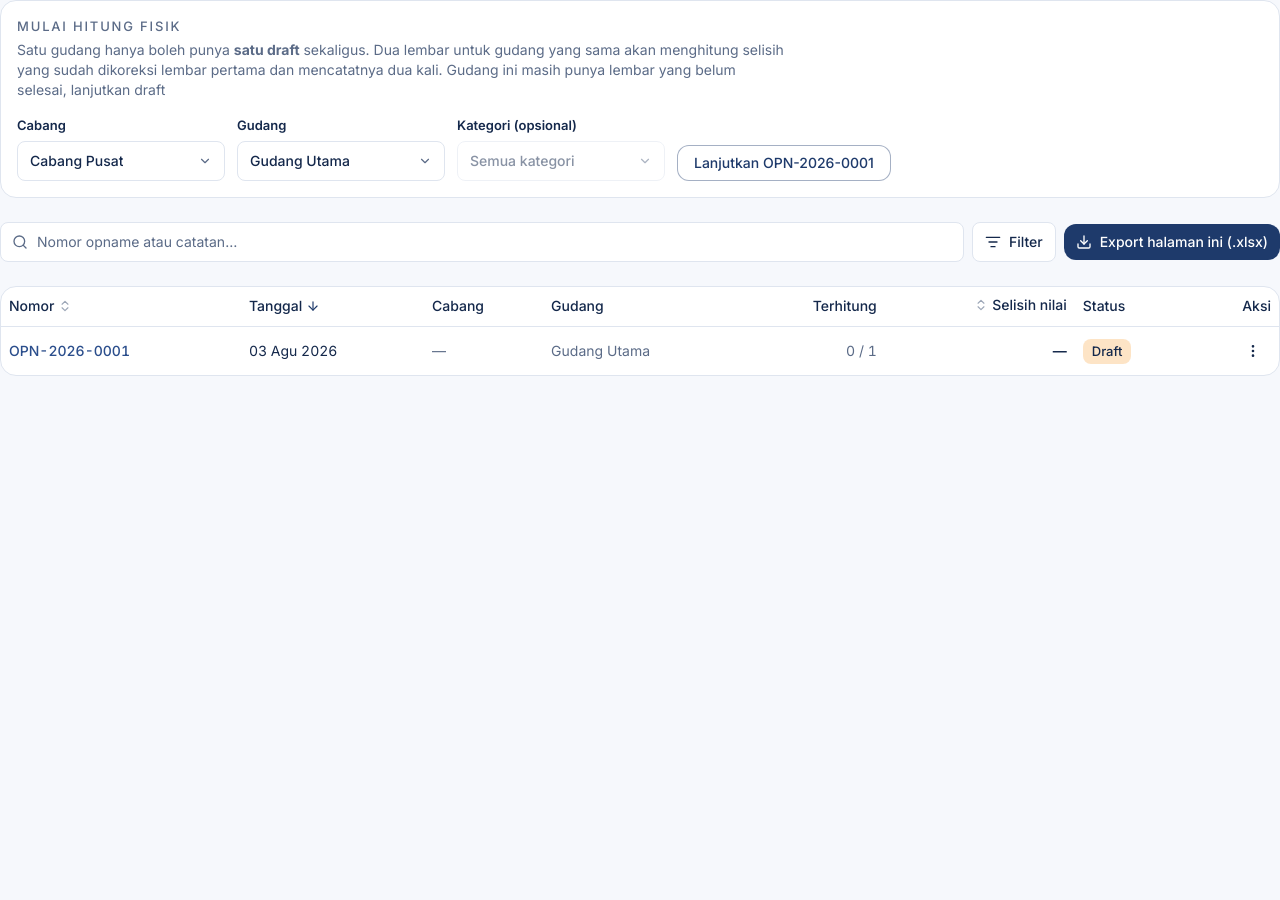
it: OpnameScreen › asks before discarding a draft picked from the menu
The width and height of the screenshot is (1280, 900).
Expected: the link "OPN-2026-0001" is shown, [9,342,130,359]
Click the button named "Aksi untuk OPN-2026-0001".
click(1253, 351)  # box [1235,335,1271,367]
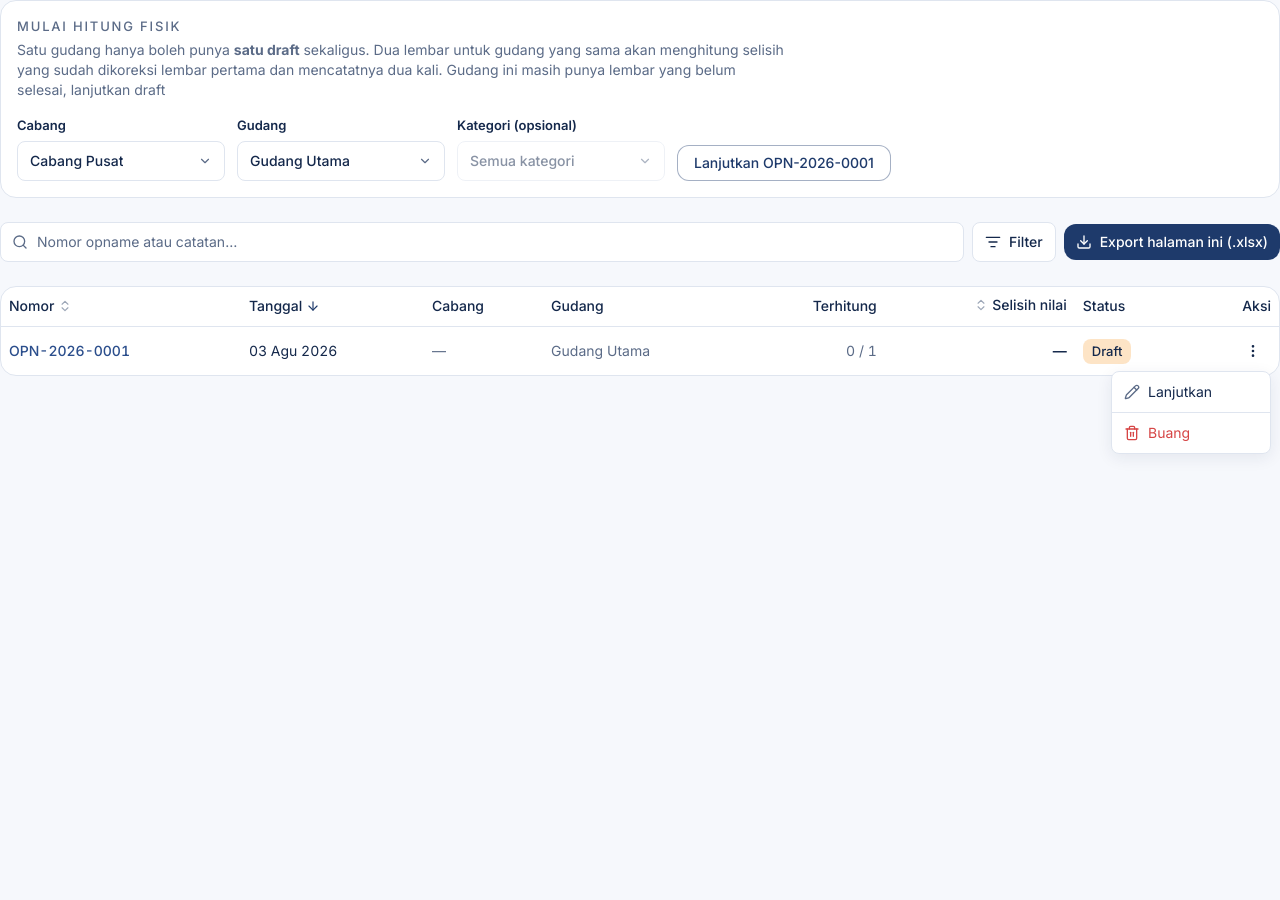
Click the menu item "Buang".
click(1157, 432)  # box [1124,424,1190,441]
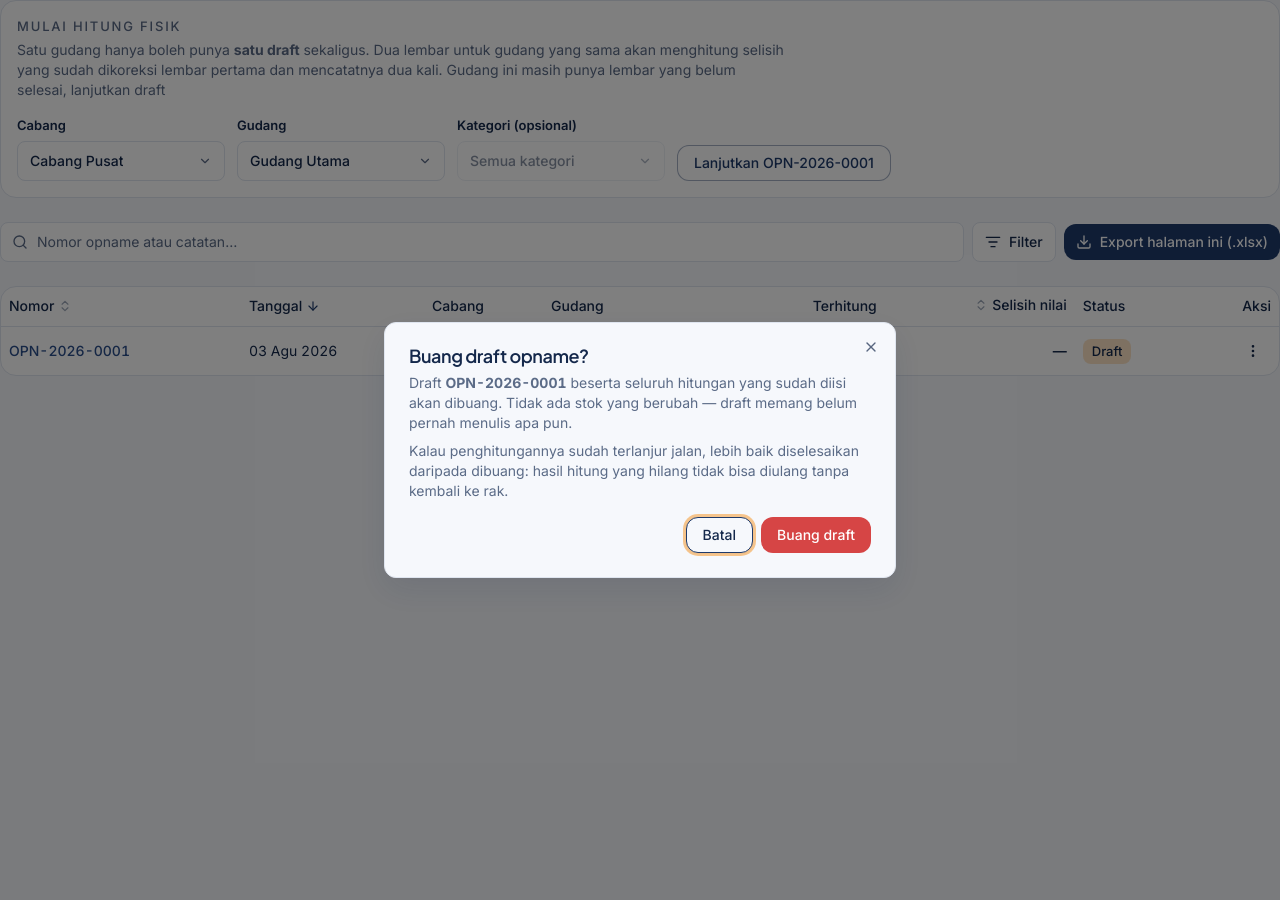
Expected: the heading "Buang draft opname?" is shown, [409,344,589,367]
